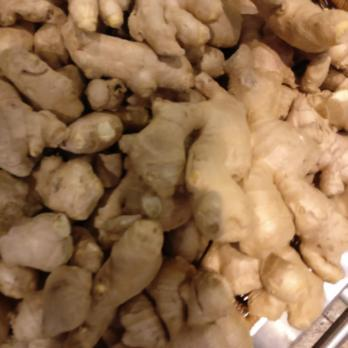Ginger: (0, 0, 333, 348)
